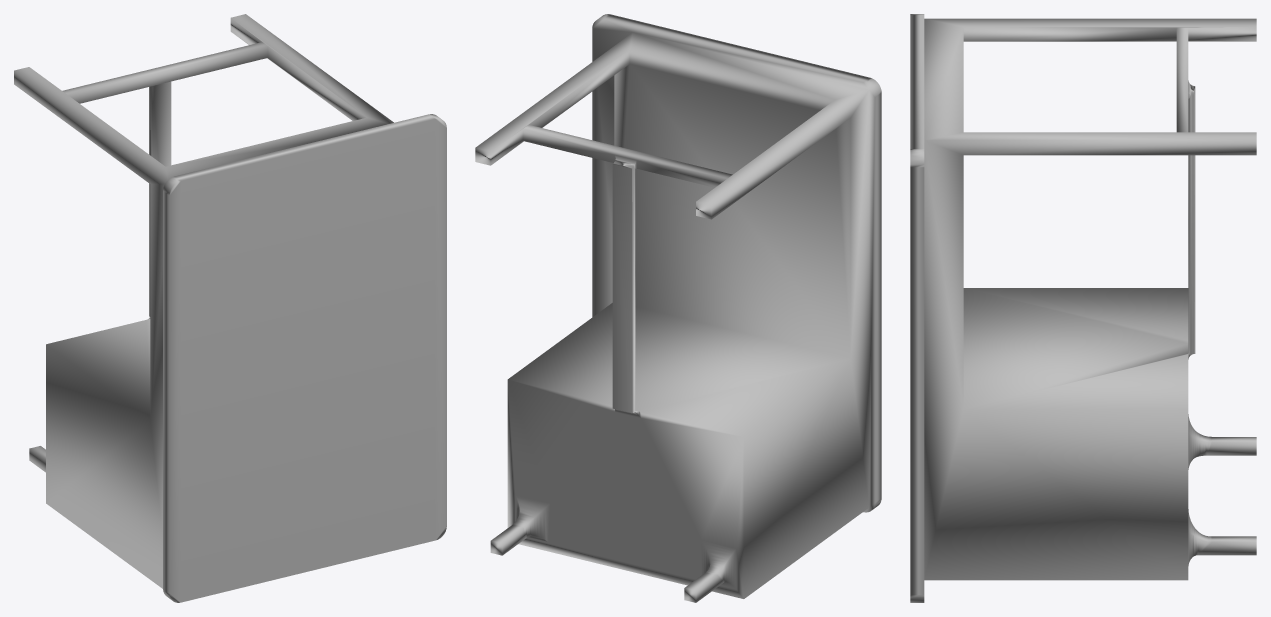
The model's file is desk_nei.dae.
The picture shows the model from 3 angles, left to right: view 1: azimuth 30°, elevation 25°; view 2: azimuth 150°, elevation 25°; view 3: azimuth 270°, elevation 25°; orthographic projection. The views are drawn at different scales.
Parts seen in each view (by area): view 1: transform1; view 2: transform1; view 3: transform1.
Part boxes in pixels (bbox=[...]): transform1: bbox=[14, 14, 446, 602]; transform1: bbox=[475, 14, 881, 602]; transform1: bbox=[910, 14, 1256, 602].
Size of the model in its own units: 0.73 by 1.06 by 0.735.
1 material, 1 textured.
